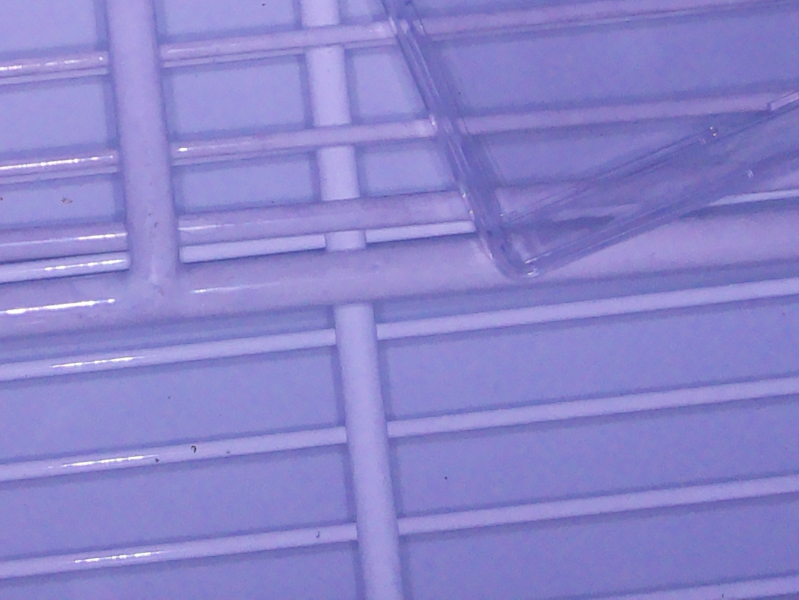plate: (376, 1, 799, 287)
